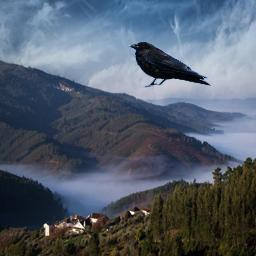Crow: (127, 41, 211, 88)
